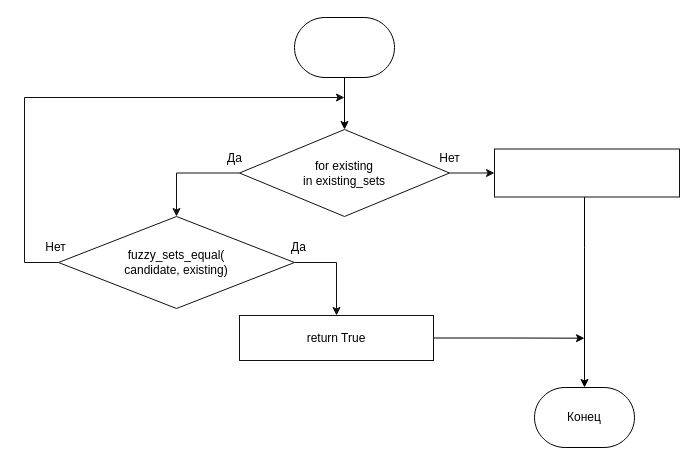
This 697x465 diagram has some shape labels left out. Here are the shapes that lost their labels. From the top down, the centre of each, then its label:
the point at 344,47: Начало
the point at 587,172: return False
